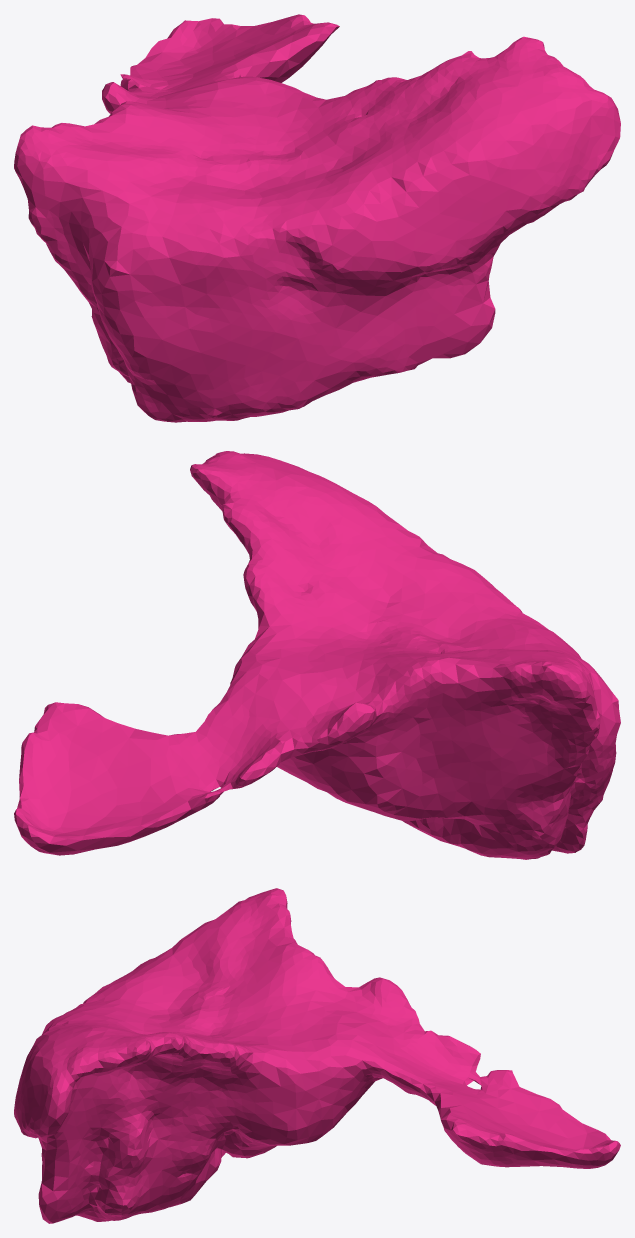
Rendered from Restoration_Restoration2_L.glb.
The picture shows the model from 3 angles, top to bottom: view 1: azimuth 30°, elevation 25°; view 2: azimuth 150°, elevation 25°; view 3: azimuth 270°, elevation 25°; orthographic projection. The views are drawn at different scales.
Visible parts, largest first — view 1: molar1_filling_mesial_mesh.001; view 2: molar1_filling_mesial_mesh.001; view 3: molar1_filling_mesial_mesh.001.
Part boxes in pixels (x1=…): molar1_filling_mesial_mesh.001: x1=14, y1=14, x2=620, y2=422; molar1_filling_mesial_mesh.001: x1=14, y1=451, x2=620, y2=859; molar1_filling_mesial_mesh.001: x1=14, y1=888, x2=620, y2=1223.
Size of the model in its own units: 5.42 by 3.11 by 6.26.
